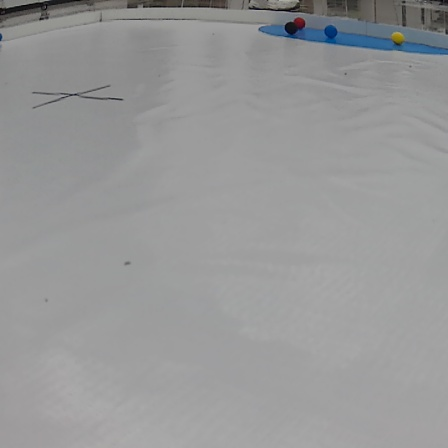black: (284, 23, 300, 37)
blue: (324, 25, 338, 39)
blue_base: (259, 25, 427, 55)
red: (295, 18, 306, 28)
yellow: (392, 30, 405, 45)
